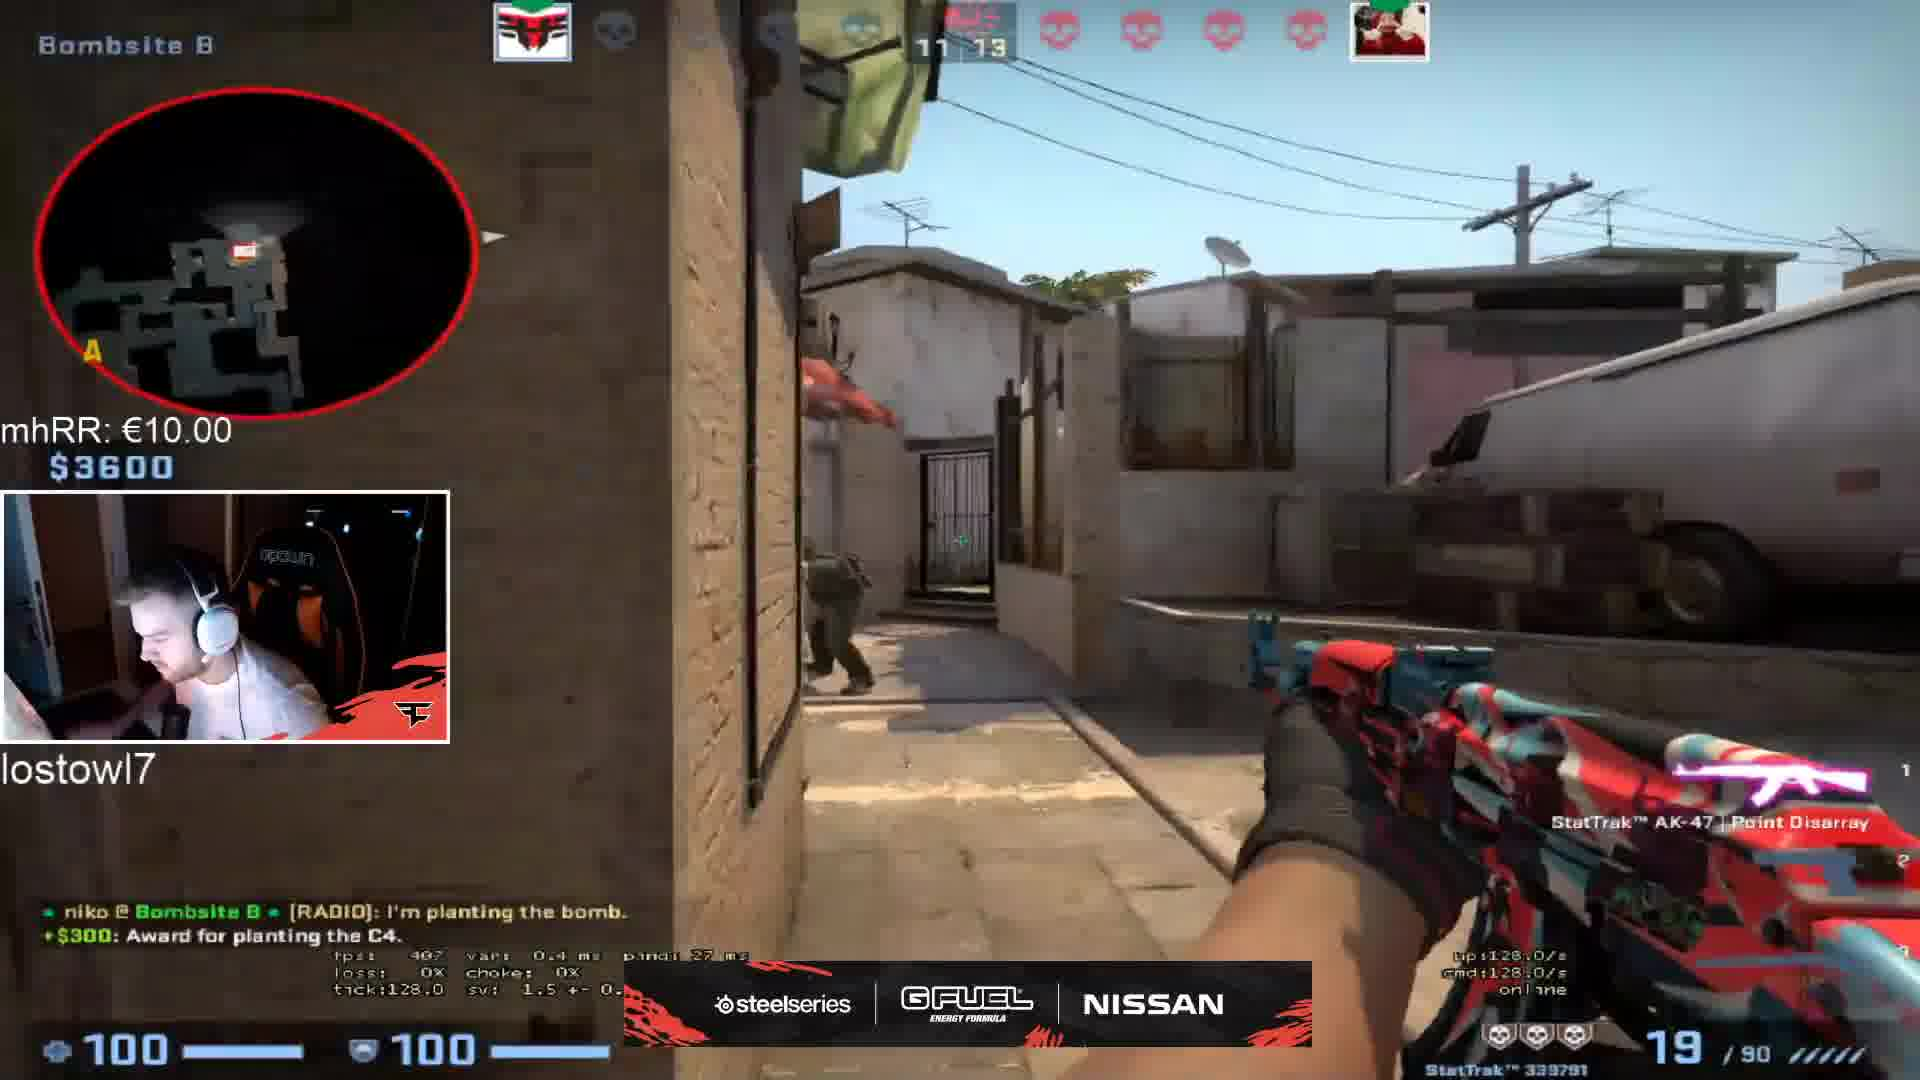enemy: (799, 530, 893, 715)
